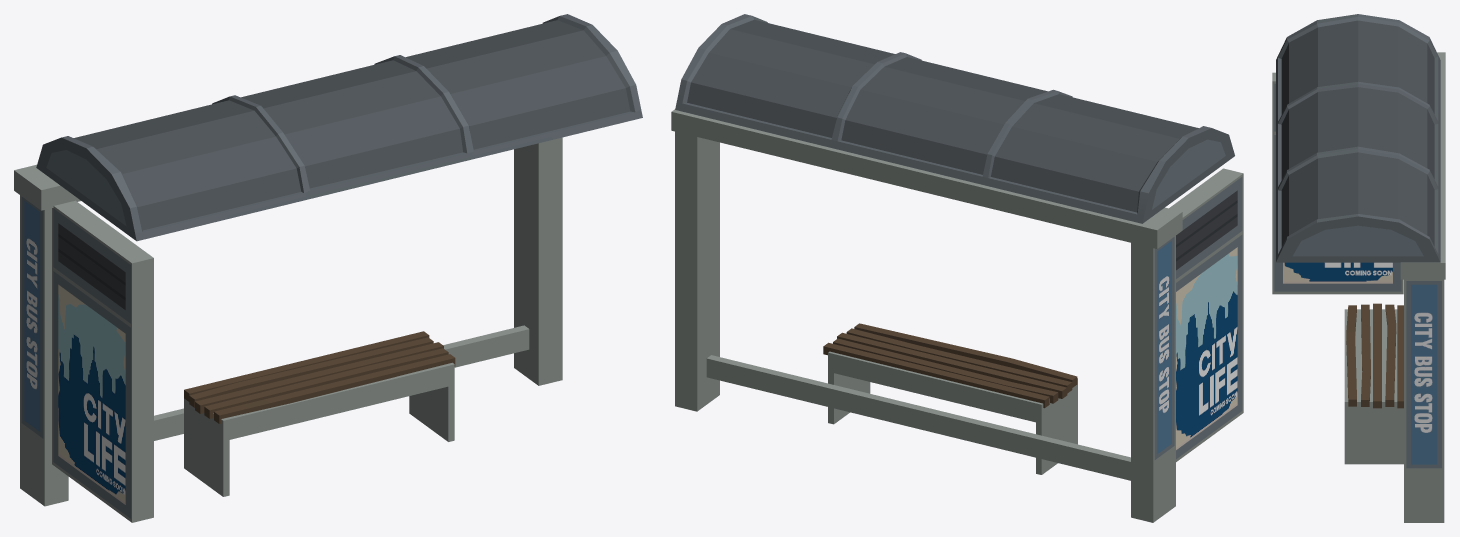
Rendered from bus_stop.glb.
3 views of the same model, side by side, from view 1: azimuth 30°, elevation 25°; view 2: azimuth 150°, elevation 25°; view 3: azimuth 270°, elevation 25° (orthographic). The views are drawn at different scales.
Parts seen in each view (by area): view 1: SM_Prop_BusStop_01; view 2: SM_Prop_BusStop_01; view 3: SM_Prop_BusStop_01.
Boxes of the visible parts, x1,y1,x2,y2 form: SM_Prop_BusStop_01: (14, 14, 642, 522); SM_Prop_BusStop_01: (671, 14, 1243, 522); SM_Prop_BusStop_01: (1272, 14, 1445, 522).
Bounding box in the file's own units: 4.51 × 3.07 × 1.57.
Materials: 1 (1 with a texture image).
